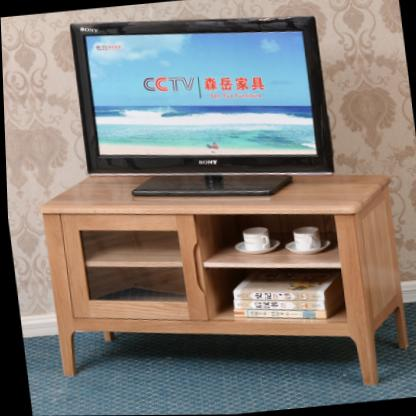TV stand: (29, 141, 413, 416)
